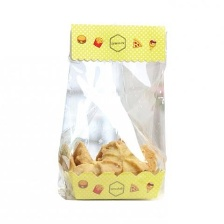snack: (51, 16, 176, 205)
